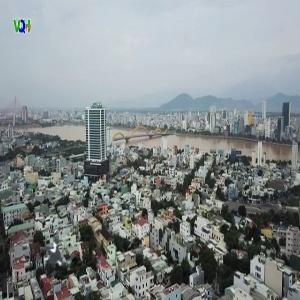drone: (20, 222, 92, 294)
